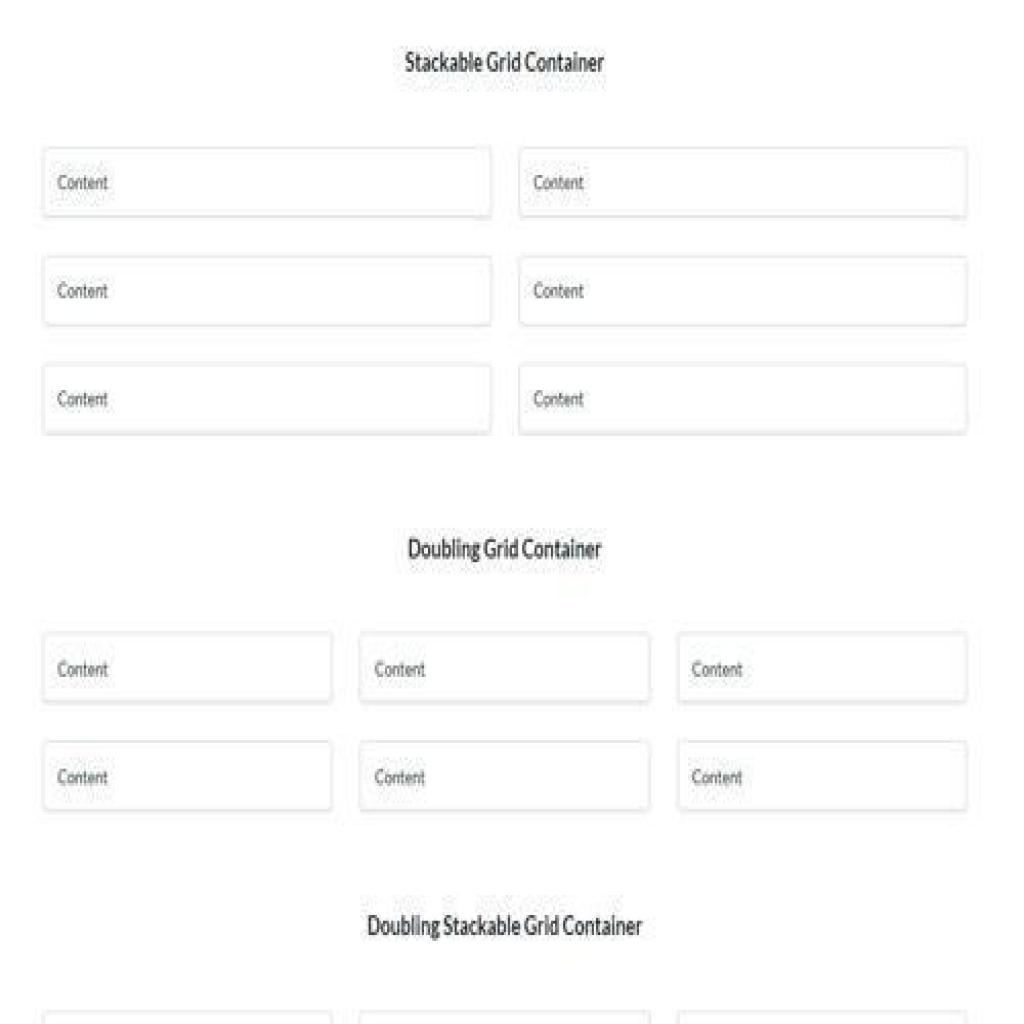input: (518, 146, 969, 218), (43, 149, 492, 221), (520, 364, 967, 436), (43, 364, 489, 436), (518, 258, 969, 324), (41, 258, 491, 324), (678, 628, 971, 703), (43, 631, 332, 703), (358, 631, 654, 700), (360, 743, 654, 812), (41, 743, 334, 812), (680, 743, 969, 812)
label: (361, 900, 645, 944), (402, 536, 606, 568), (404, 46, 606, 77)
